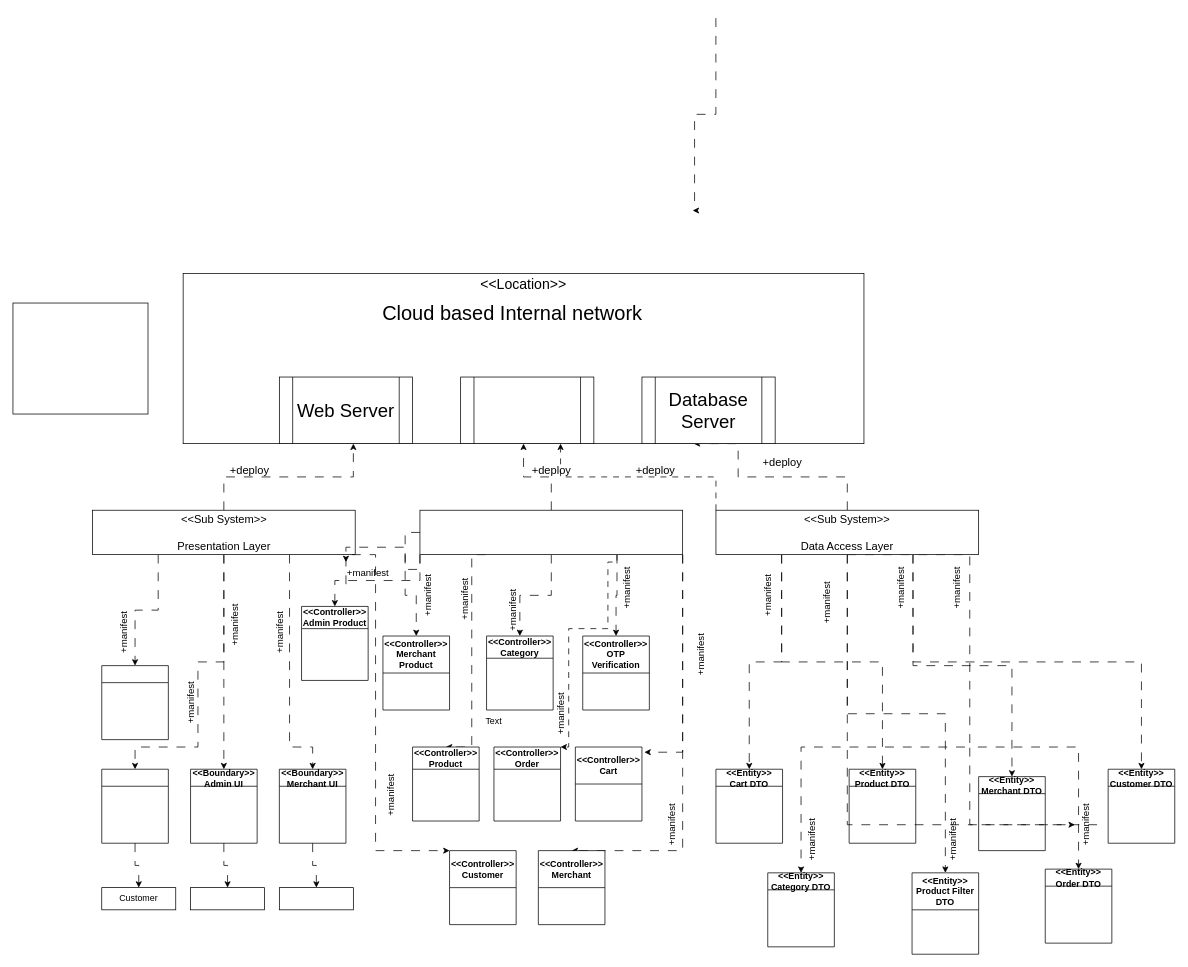
This 1188x967 diagram has some shape labels left out. Each missing label, with the centre of its shape:
"<< Boundary>> Customer UI" belongs at (134,805).
"<<Boundary>> Product UI" belongs at (134,702).
"<<Location>> Client PC" belongs at (80,358).
"<<Sub System>> Control Layer" belongs at (551,532).
"Admin" belongs at (227,898).
"App Server" belongs at (527,410).
"Merchant" belongs at (316,898).
